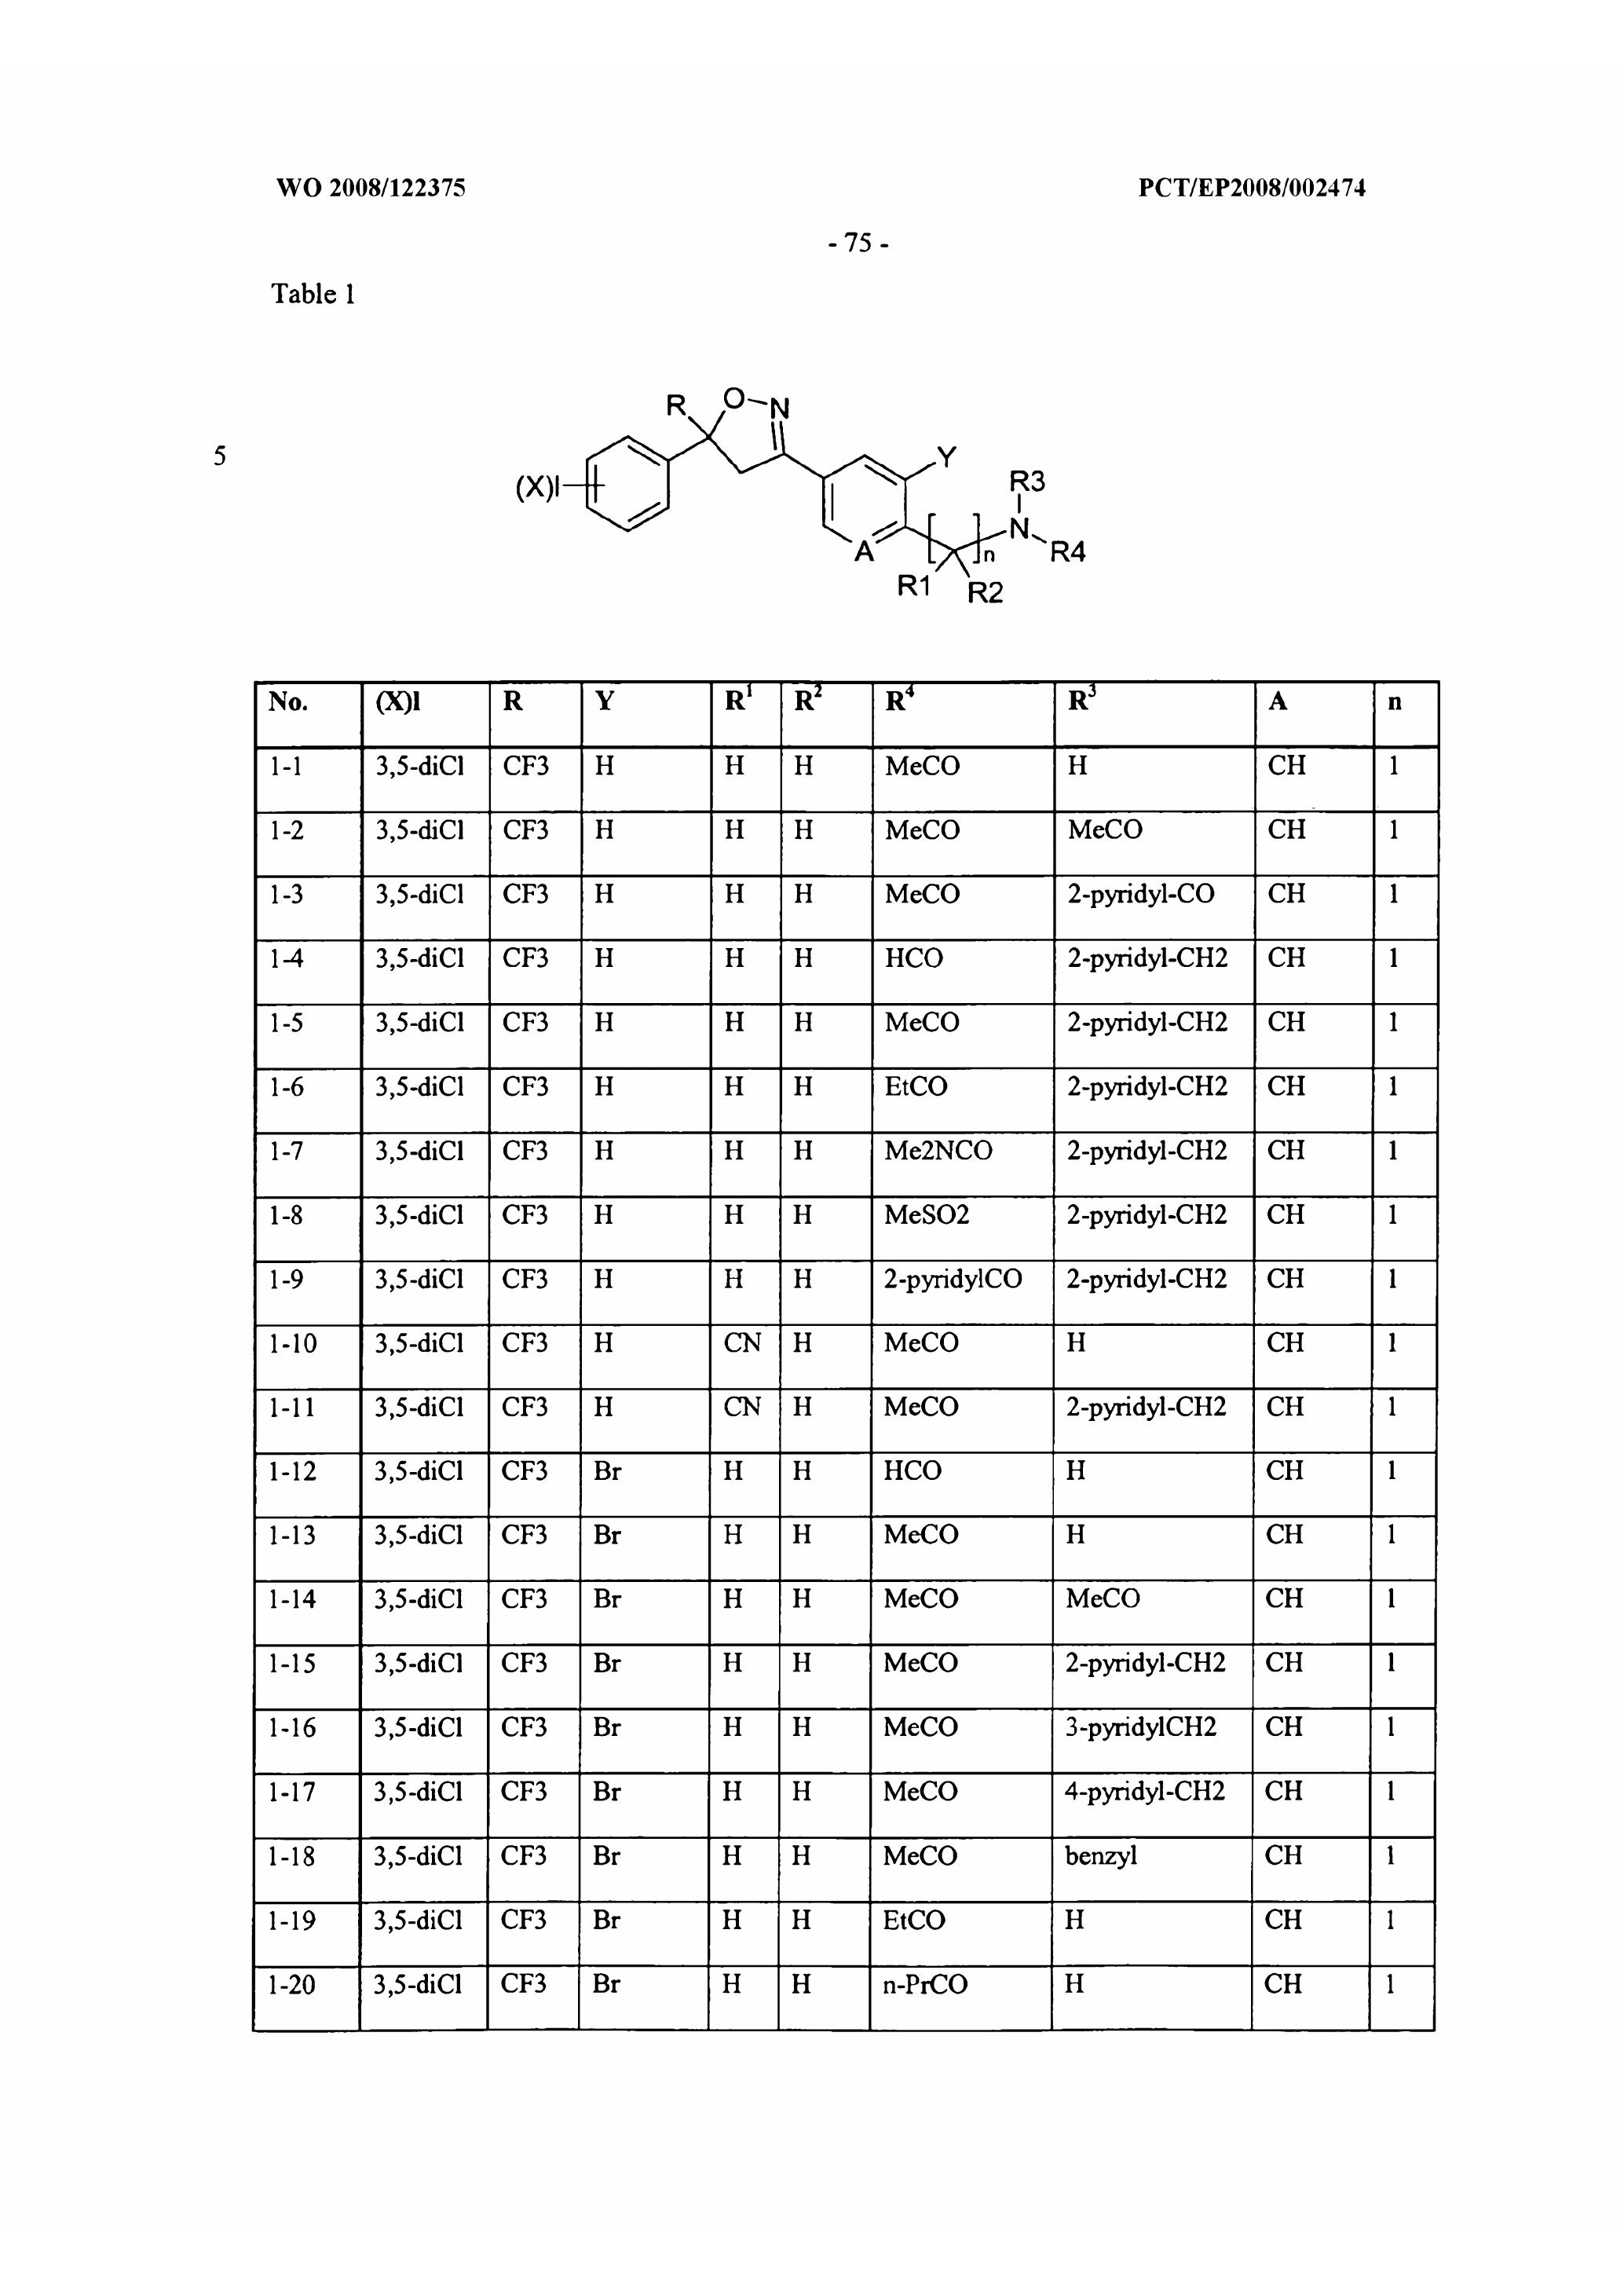markush-structures: (511, 332, 1123, 643)
